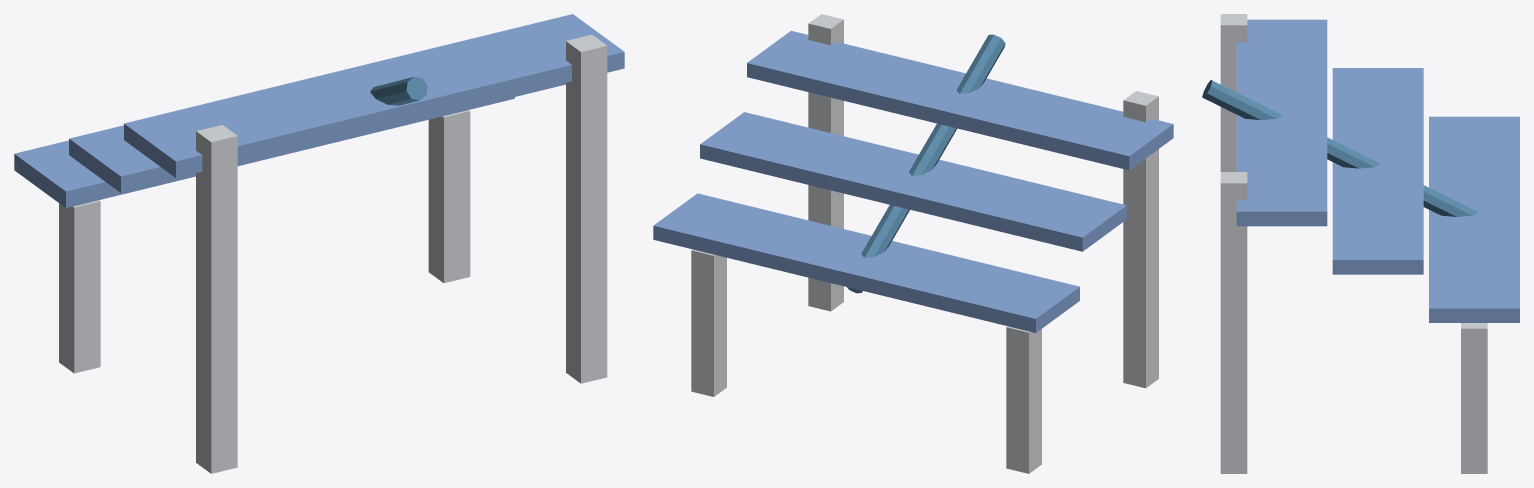
Rendered from solar_panel.glb.
The picture shows the model from 3 angles, left to right: view 1: azimuth 30°, elevation 25°; view 2: azimuth 150°, elevation 25°; view 3: azimuth 270°, elevation 25°; orthographic projection. The views are drawn at different scales.
Visible parts, largest first — view 1: solar_panel; view 2: solar_panel; view 3: solar_panel.
Part boxes in pixels (<box>): solar_panel: <box>14,14,624,473</box>; solar_panel: <box>653,14,1173,473</box>; solar_panel: <box>1202,14,1519,473</box>.
Bounding box in the file's own units: 0.85 × 0.6376 × 0.5946.
